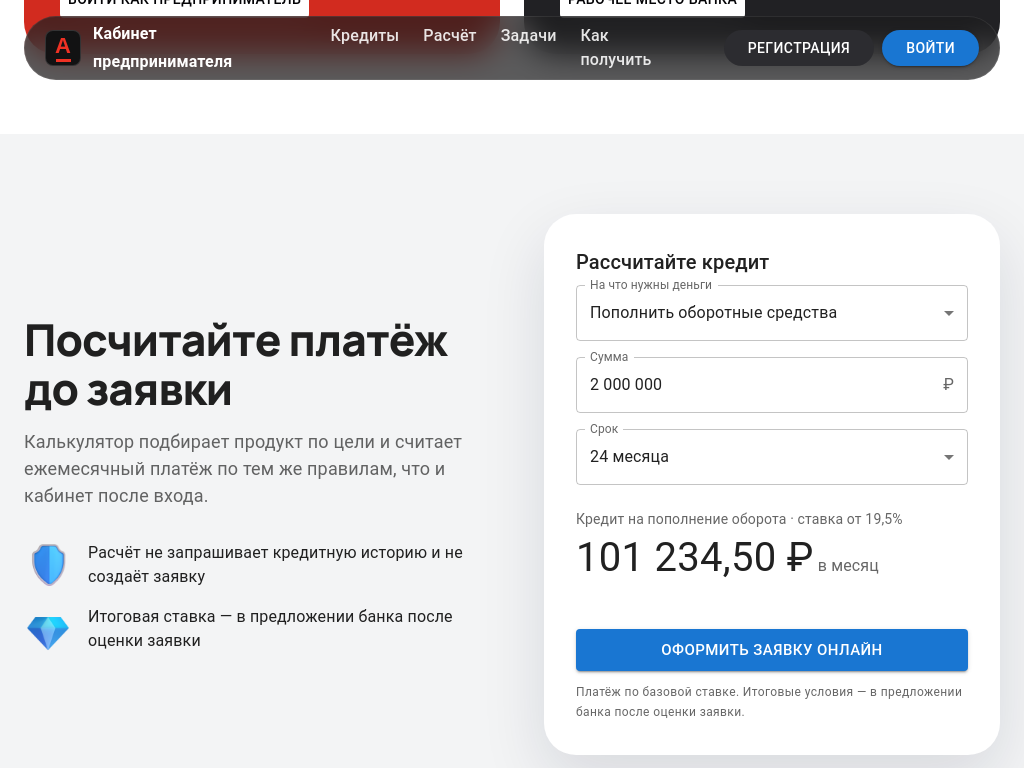
Test: LandingPage › clears the old payment and disables proceeding after the amount is cleared
(page scrolled)
Expected: the text "101 234,50 ₽ в месяц" is shown, [576, 534, 879, 581]
Clear the field labelled "Сумма" at (756, 385), box [576, 357, 935, 413]
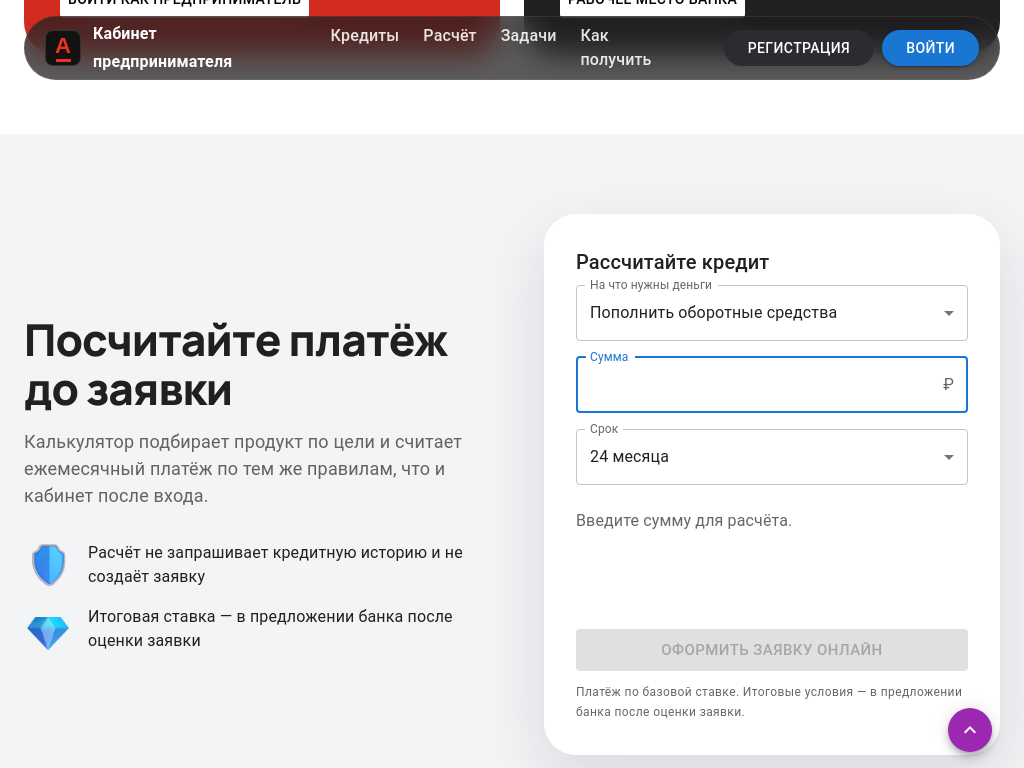
Expected: the text "101" is gone
